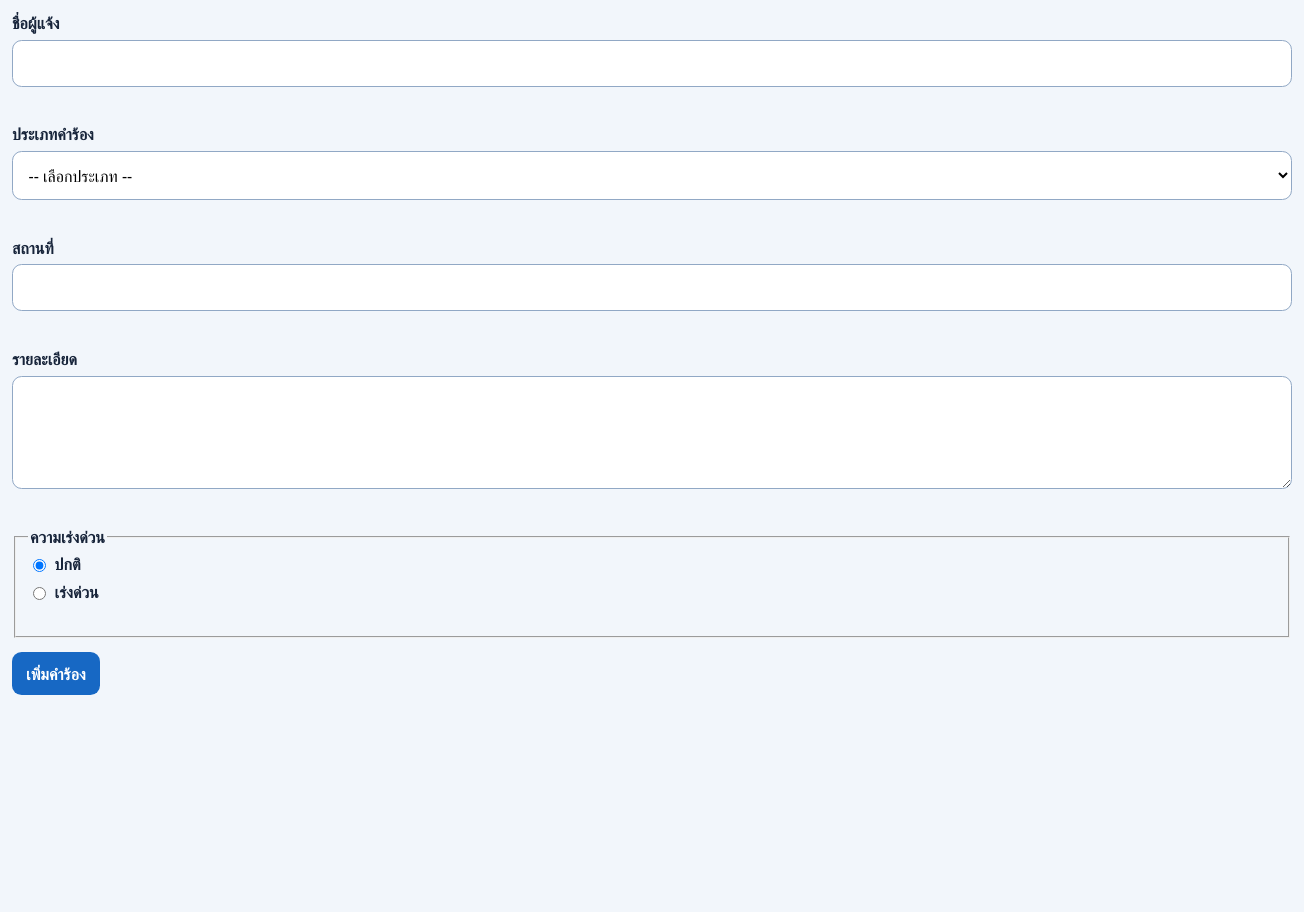
Test: RequestForm › ข้อมูลถูกต้อง -> ส่งข้อมูลให้ parent และรีเซ็ตฟอร์ม
In the field labelled "ชื่อผู้แจ้ง": {"x": 652, "y": 63} [12, 40, 1292, 87], type "ญาณากร"
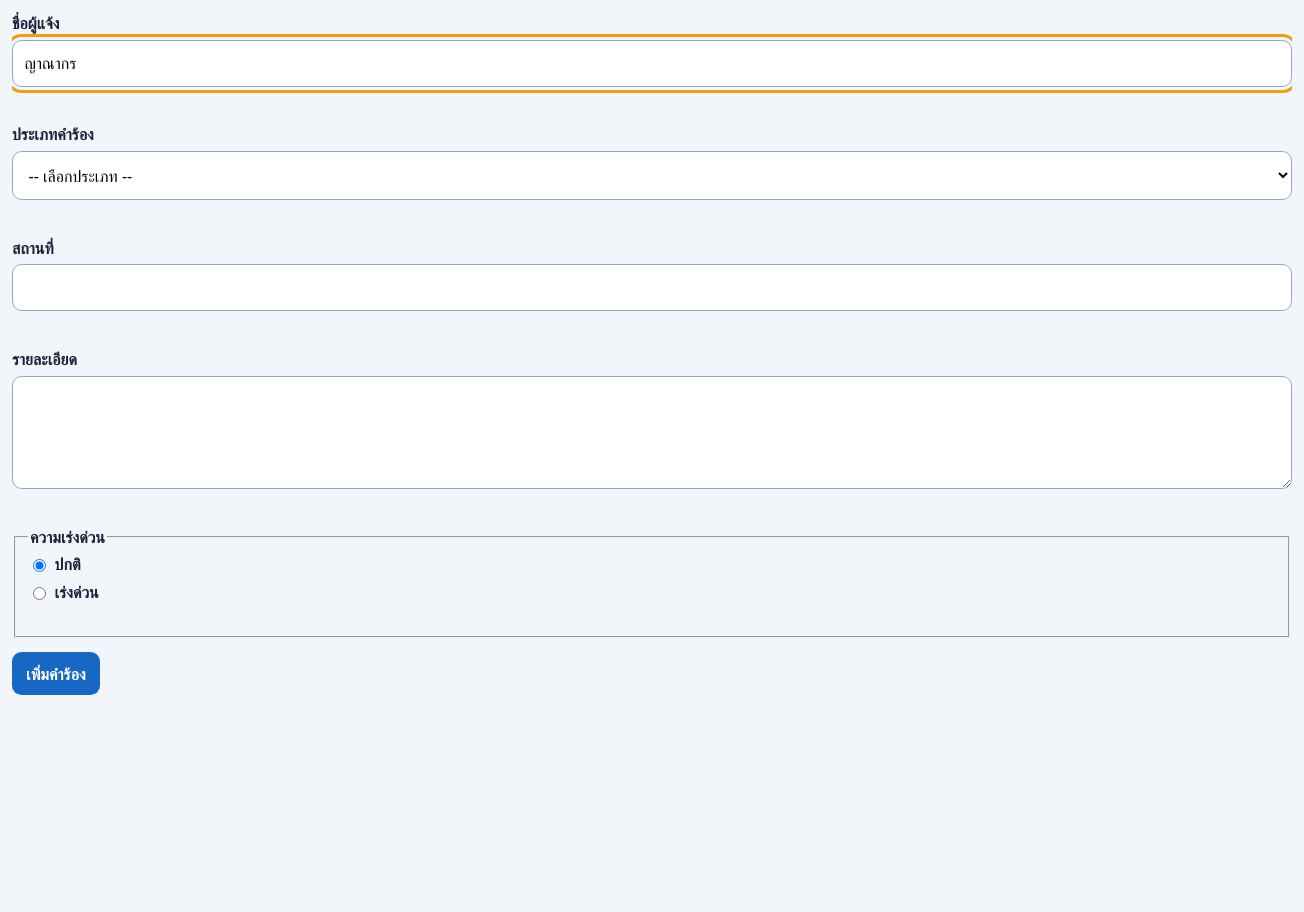
Select "แจ้งซ่อม" in the dropdown labelled "ประเภทคำร้อง": {"x": 652, "y": 176} [12, 151, 1292, 200]
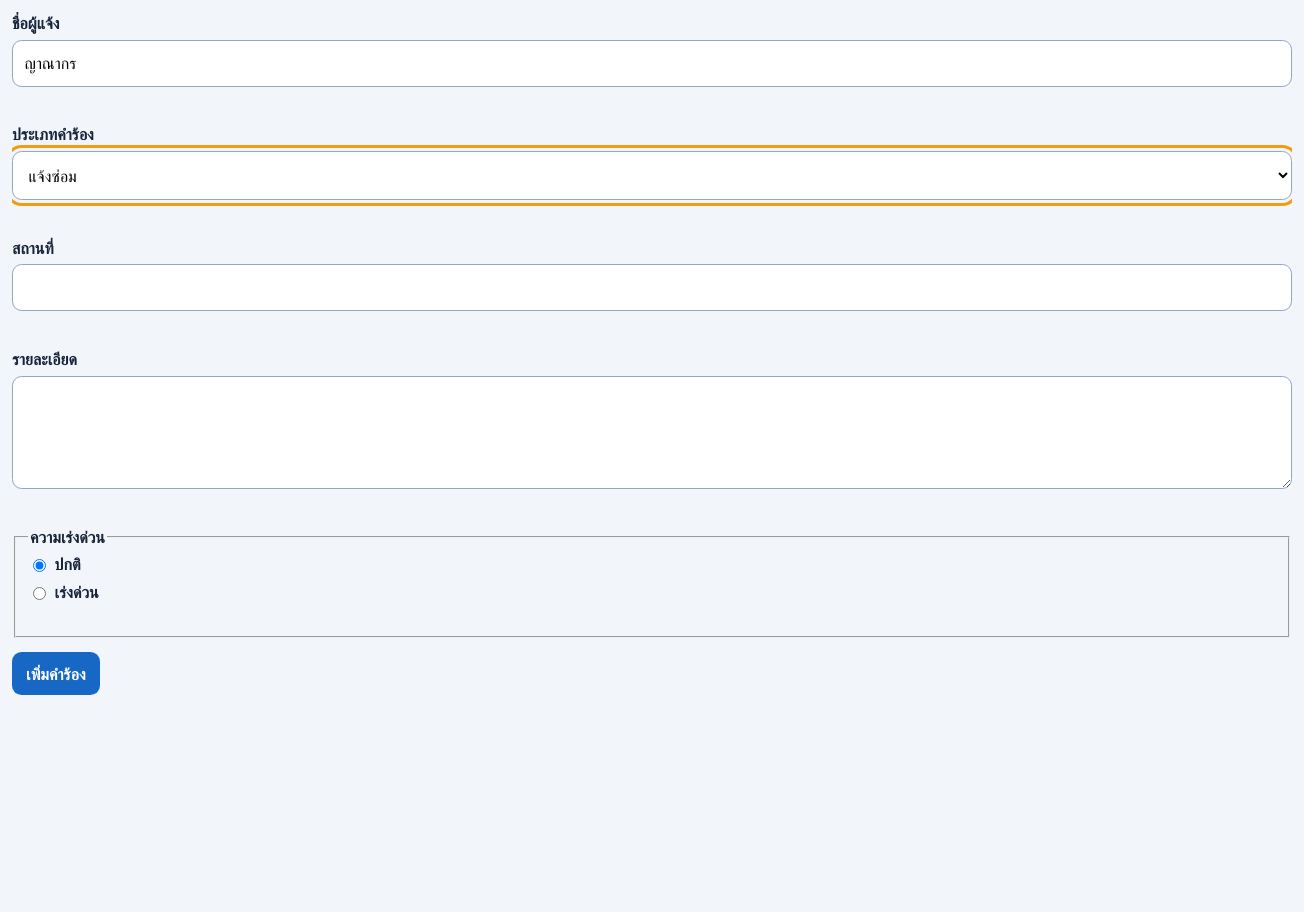
In the field labelled "สถานที่": {"x": 652, "y": 288} [12, 264, 1292, 311], type "ห้อง 301"
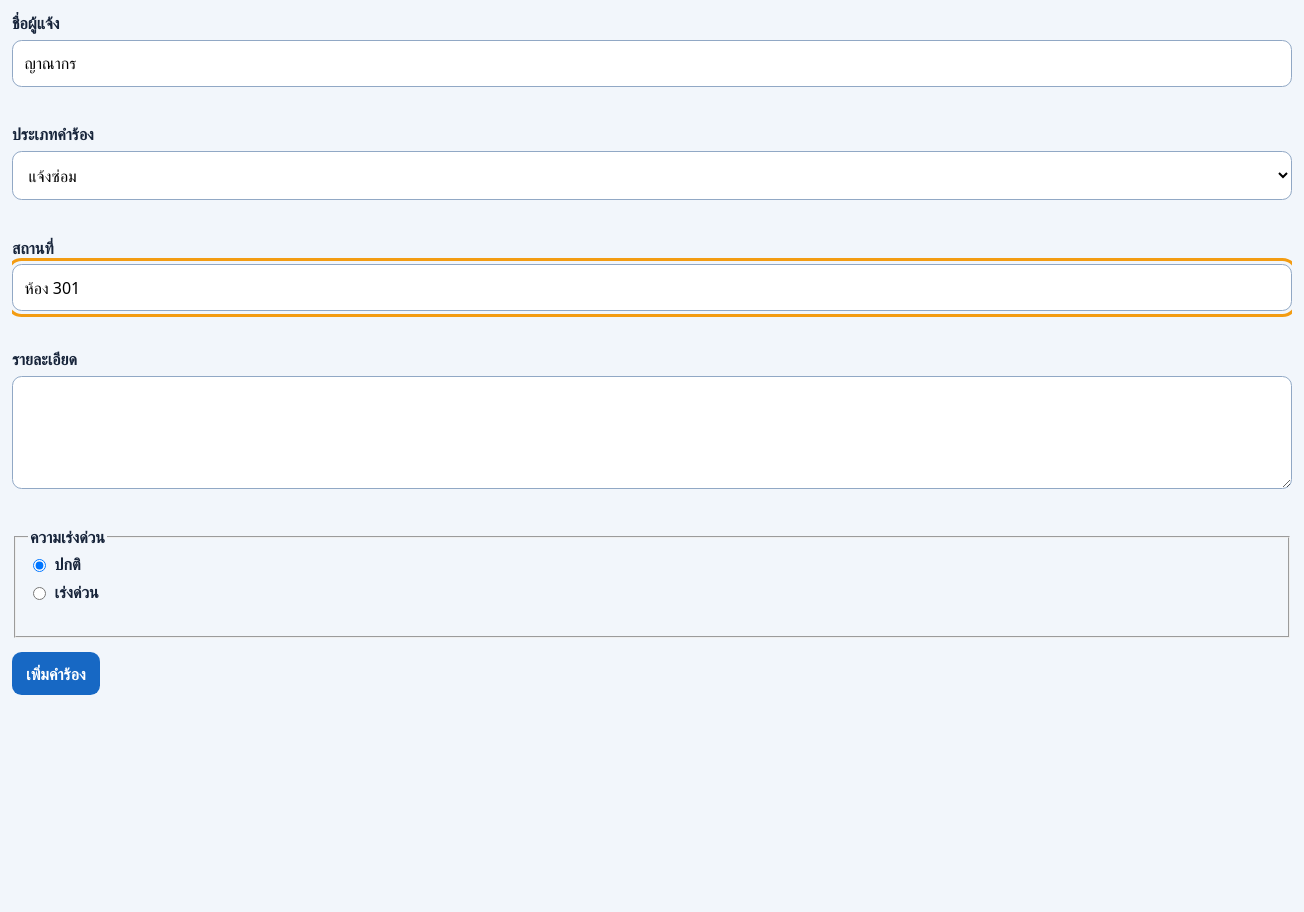
In the text box labelled "รายละเอียด": {"x": 652, "y": 432} [12, 376, 1292, 489], type "โปรเจกเตอร์เปิดไม่ติด"
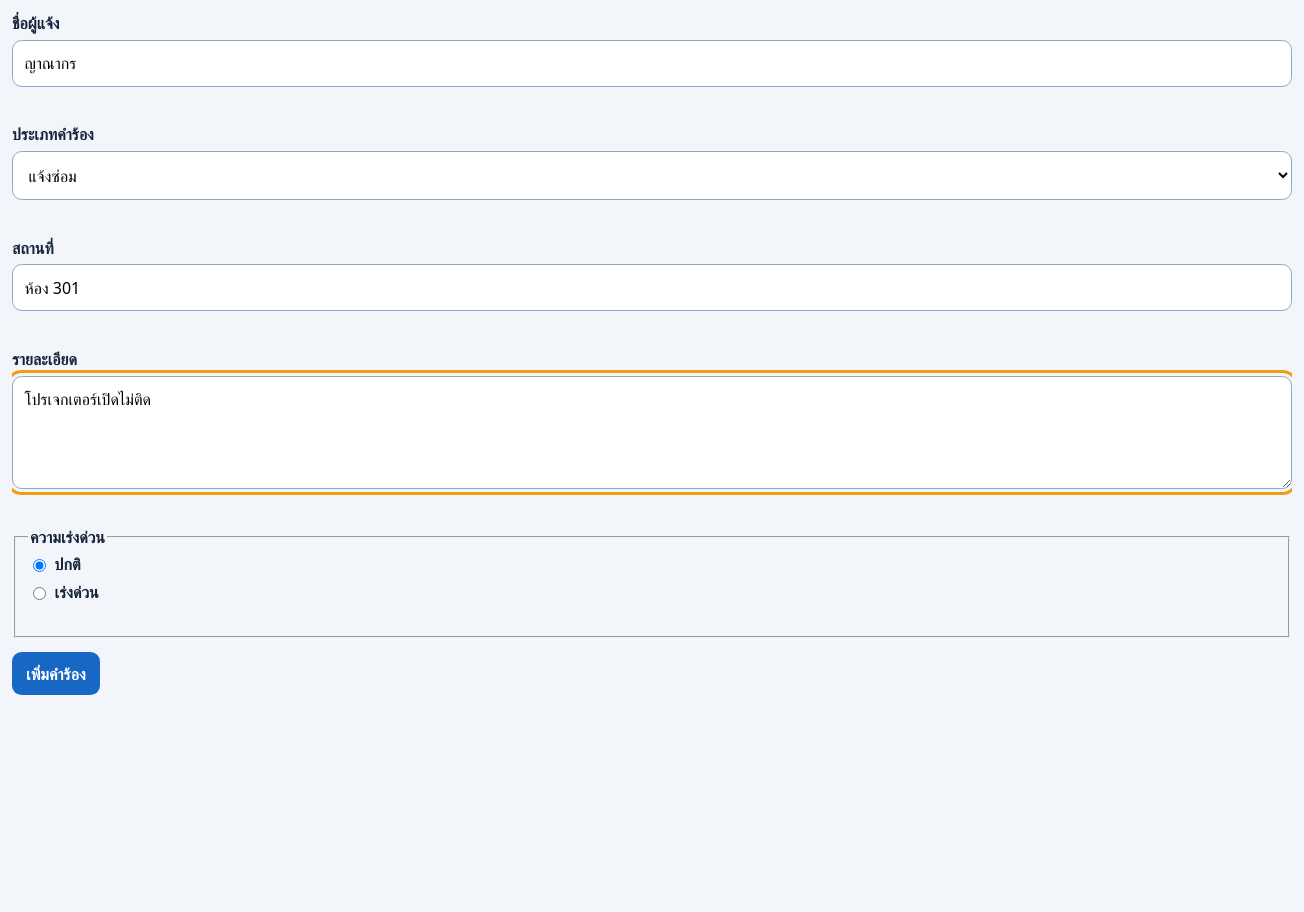
Click the radio button labelled "เร่งด่วน": {"x": 40, "y": 593} [33, 587, 46, 600]
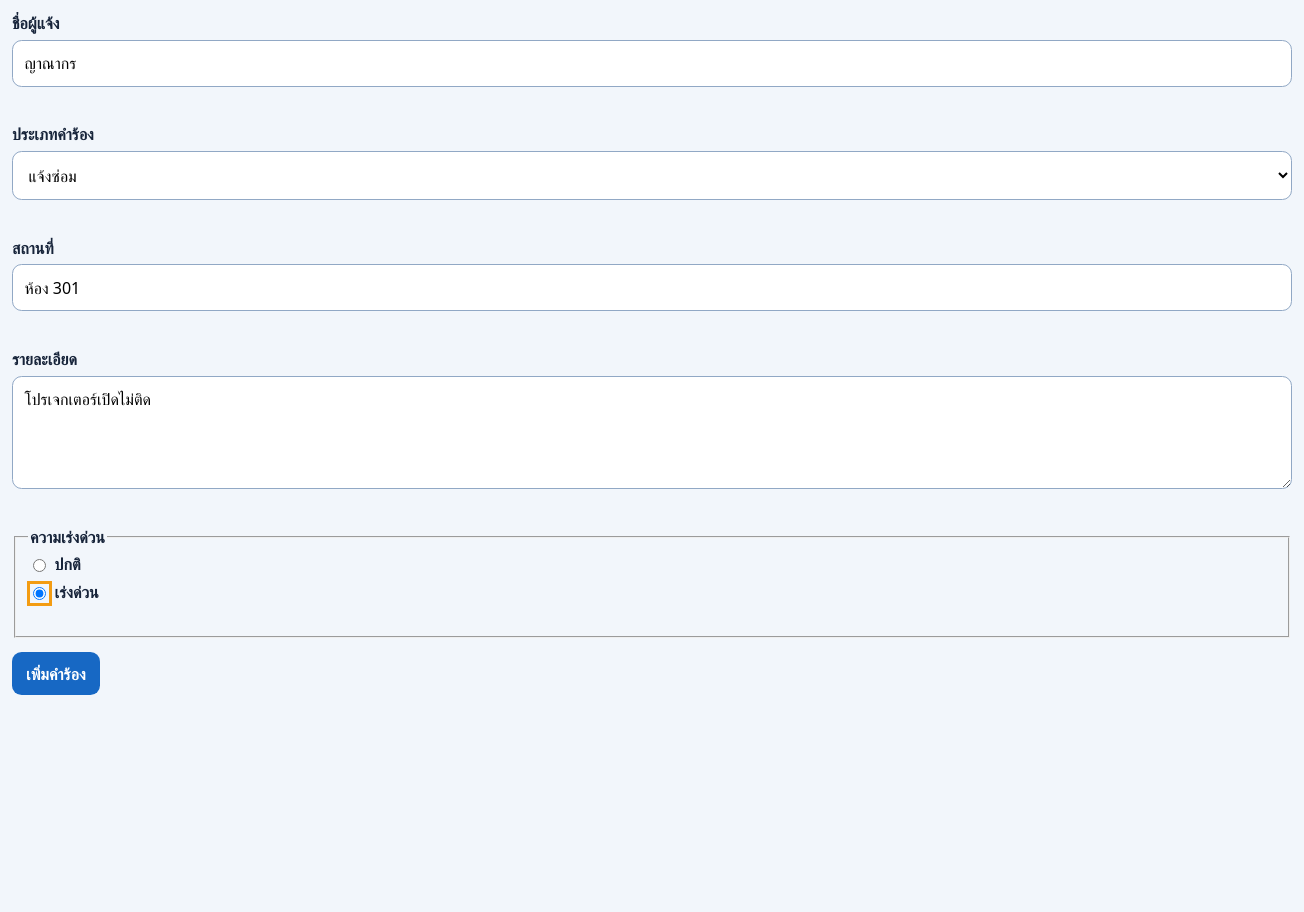
Click the button "เพิ่มคำร้อง": {"x": 56, "y": 674} [12, 652, 100, 695]
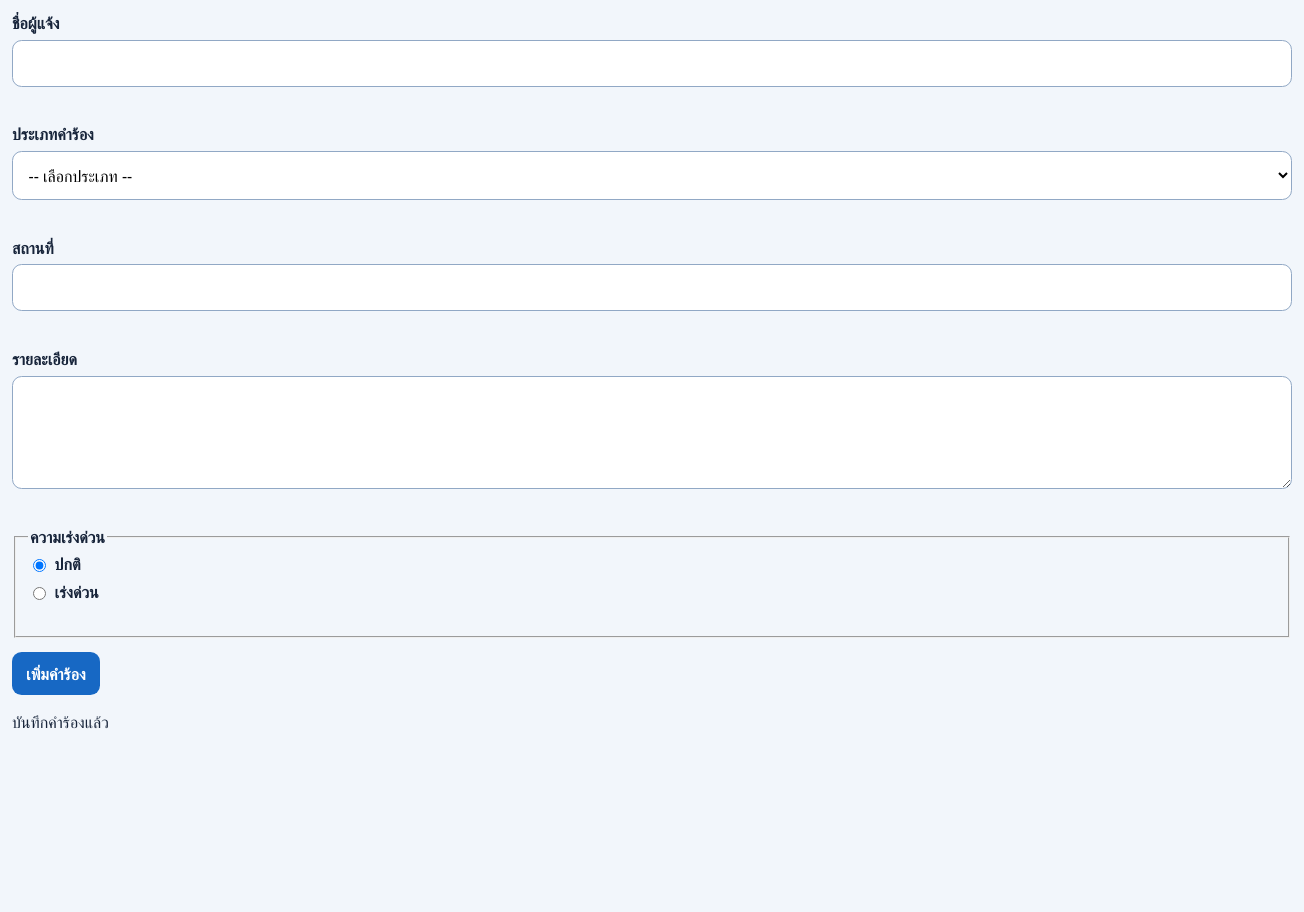
expect the text "บันทึกคำร้องแล้ว" is shown: met, box [12, 711, 109, 733]
expect the field labelled "ชื่อผู้แจ้ง" is empty: met, box [12, 40, 1292, 87]
